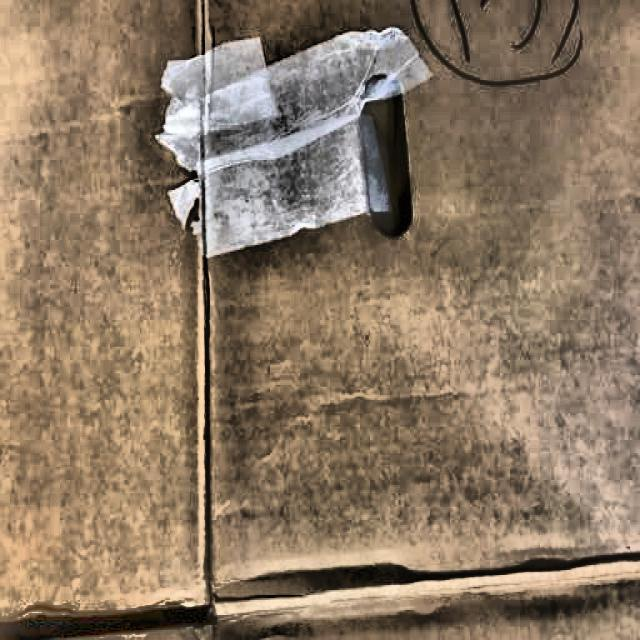cardboard: (155, 25, 431, 260)
